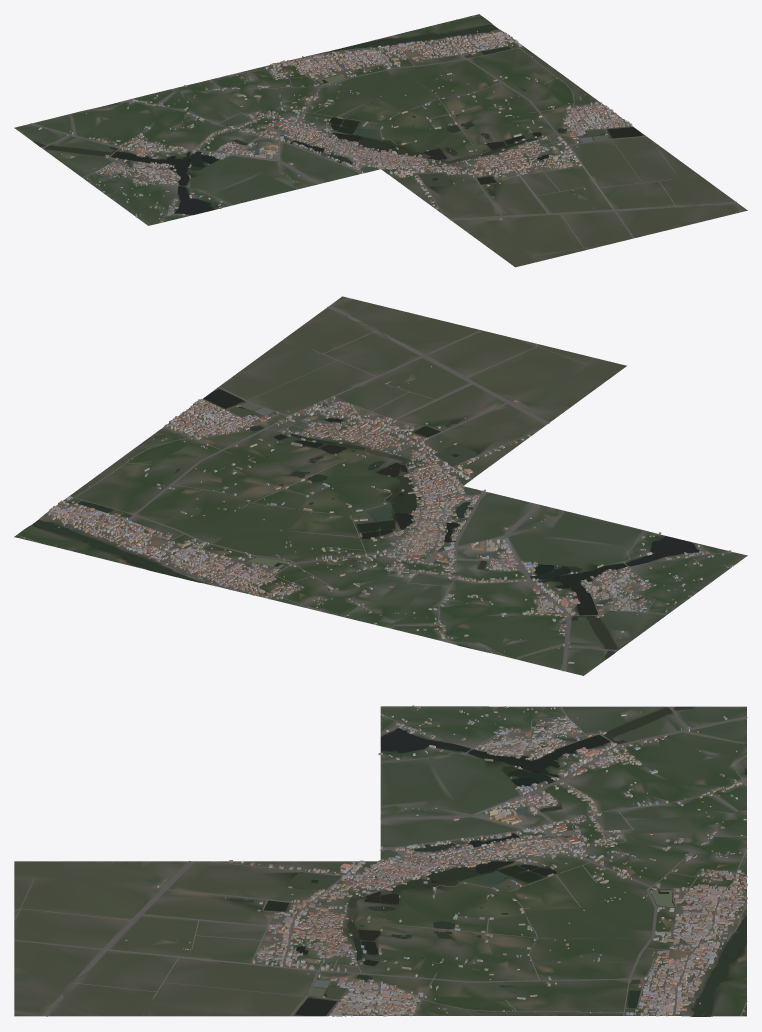
3 renders of one model, top to bottom at view 1: azimuth 30°, elevation 25°; view 2: azimuth 150°, elevation 25°; view 3: azimuth 270°, elevation 25°, orthographic. The views are drawn at different scales.
Visible parts, largest first — view 1: ground, buildings, water, roads; view 2: ground, buildings, water, roads; view 3: ground, buildings, water, roads.
Boxes of the visible parts, x1=… form: ground: x1=14, y1=14, x2=747, y2=267; buildings: x1=38, y1=15, x2=632, y2=222; water: x1=33, y1=24, x2=642, y2=214; roads: x1=29, y1=15, x2=736, y2=255; ground: x1=14, y1=296, x2=747, y2=675; buildings: x1=23, y1=366, x2=733, y2=663; water: x1=32, y1=389, x2=699, y2=658; roads: x1=17, y1=305, x2=734, y2=671; ground: x1=14, y1=706, x2=746, y2=1016; buildings: x1=125, y1=705, x2=747, y2=1016; water: x1=228, y1=706, x2=746, y2=1016; roads: x1=14, y1=706, x2=747, y2=1016.
Size of the model in its own units: 2816 by 27.5 by 2809.
